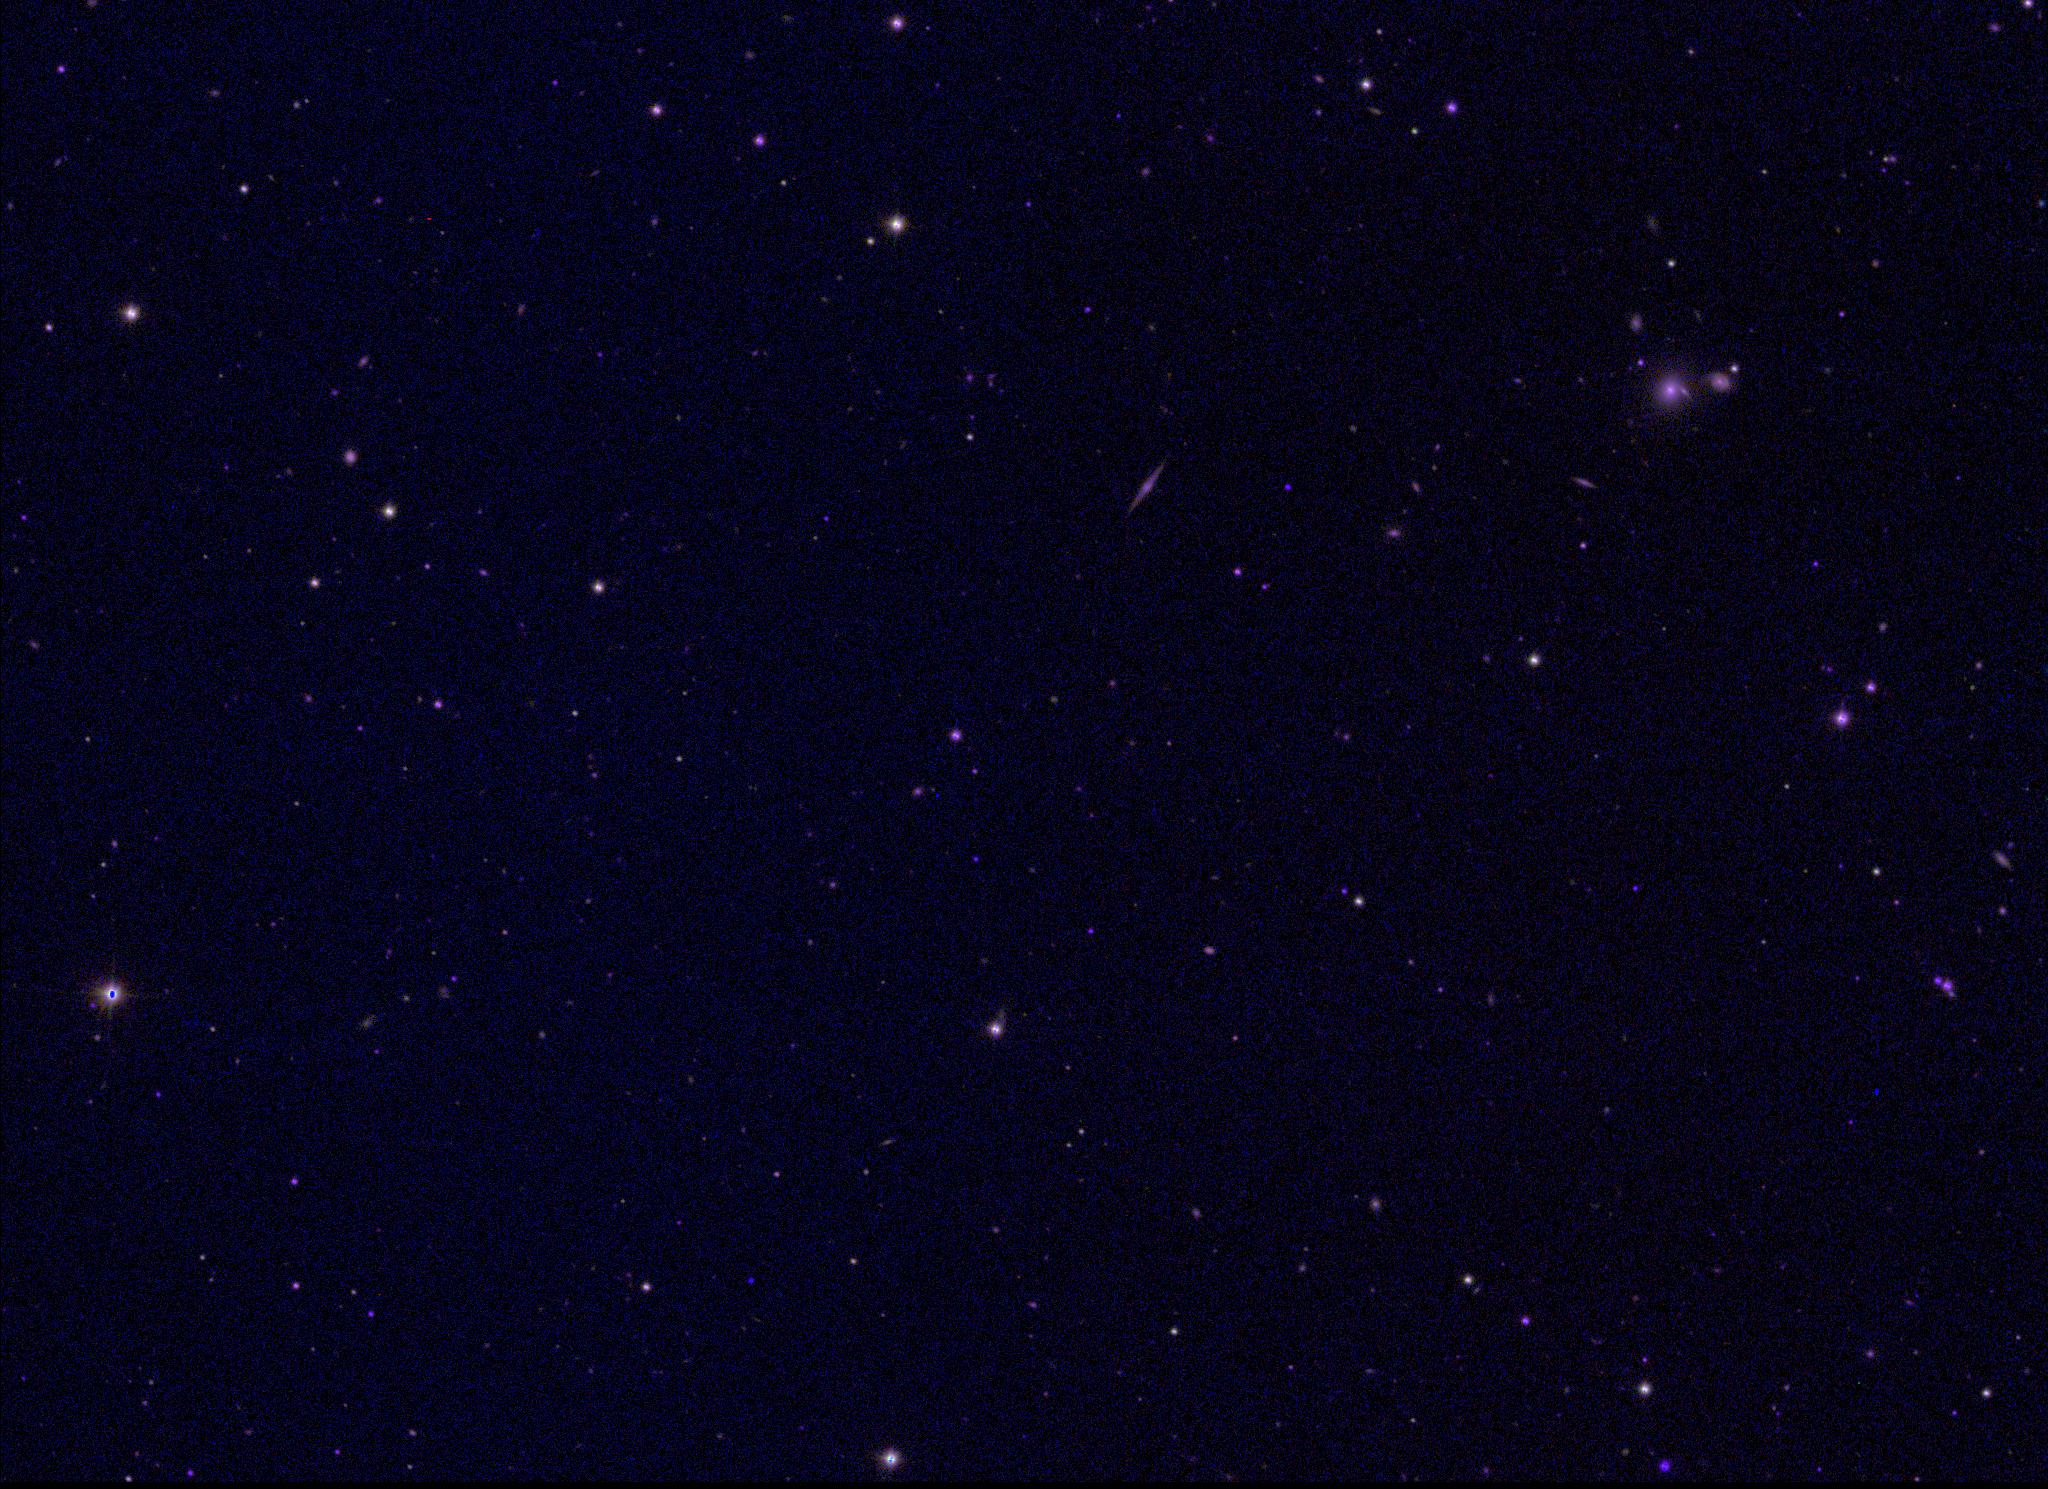L: (744, 1273, 758, 1287)
